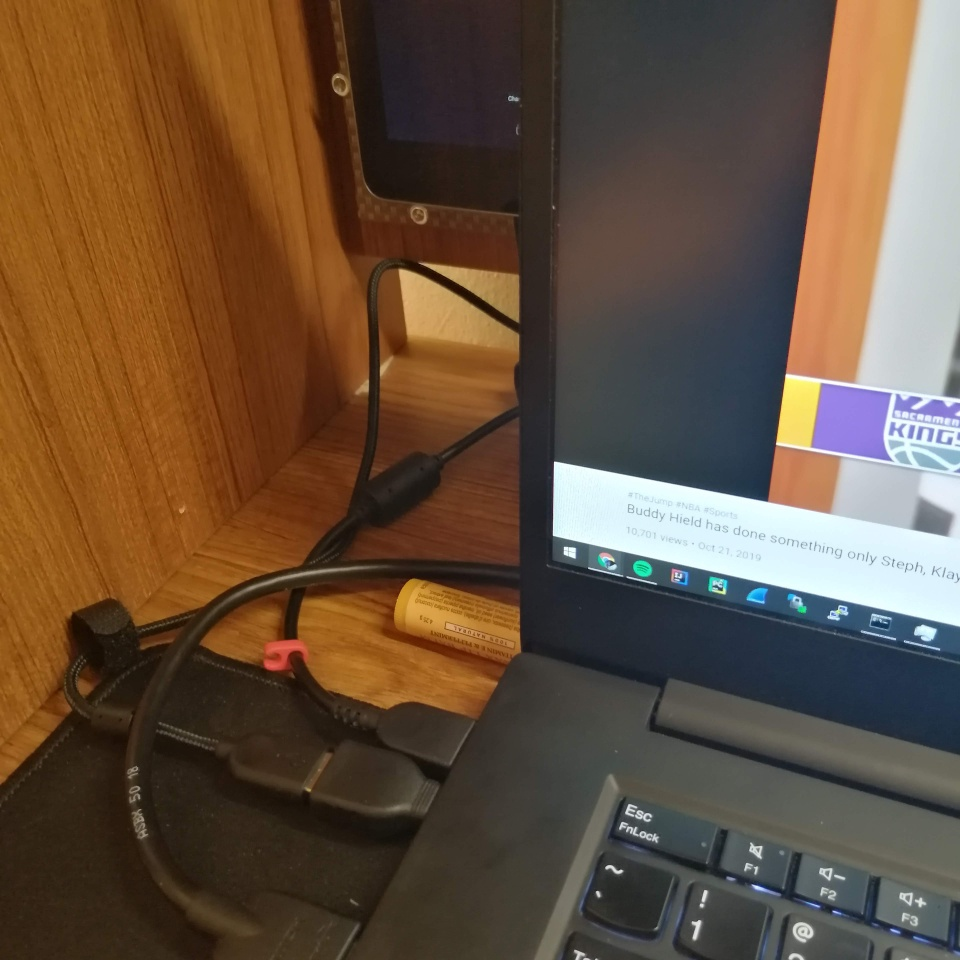chapstick: (391, 569, 524, 662)
